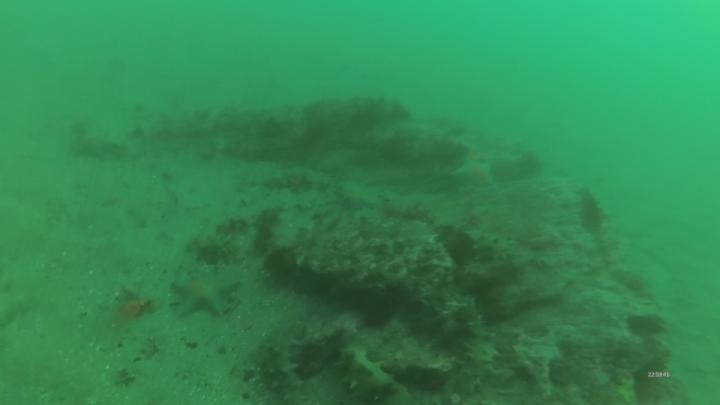echinus: (363, 297, 396, 330)
holothurian: (341, 346, 412, 405), (258, 320, 306, 405), (460, 324, 497, 393), (256, 165, 333, 191), (465, 230, 517, 263), (197, 230, 245, 259)
starfish: (175, 271, 240, 319), (455, 160, 497, 189)
